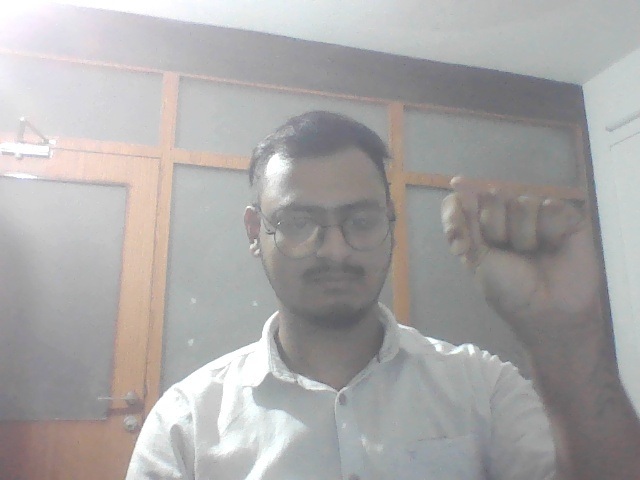Toilet: (431, 172, 612, 342)
